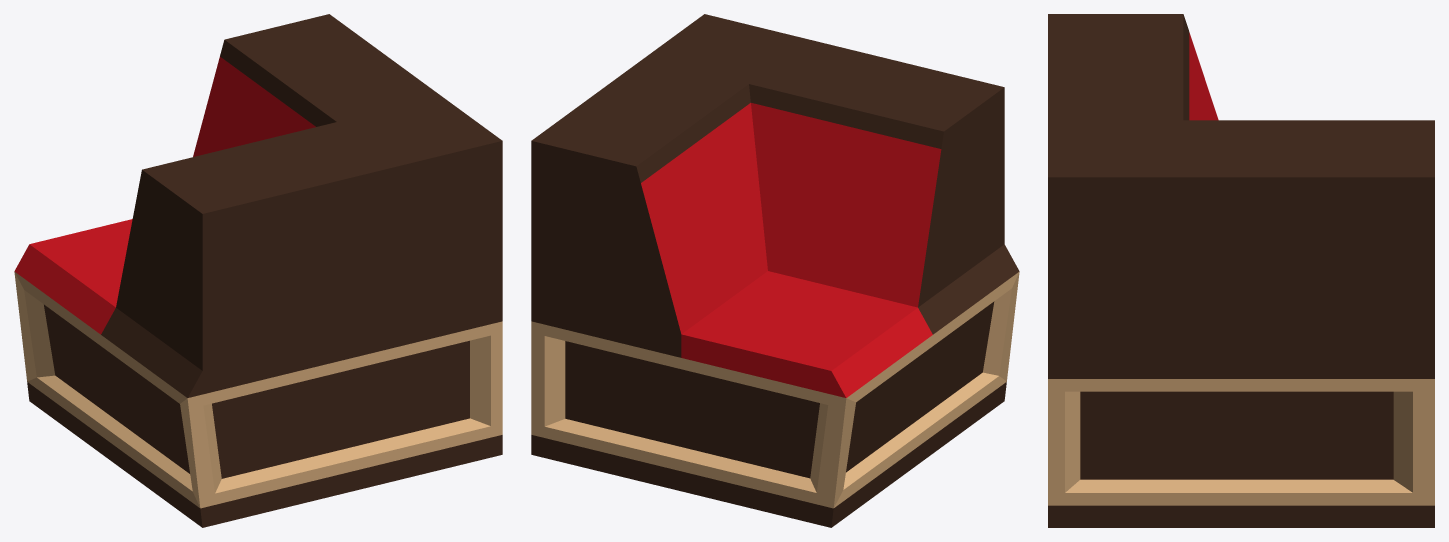
Rendered from Booth Corner.fbx.
The picture shows the model from 3 angles, left to right: view 1: azimuth 30°, elevation 25°; view 2: azimuth 150°, elevation 25°; view 3: azimuth 270°, elevation 25°; orthographic projection. The views are drawn at different scales.
Parts seen in each view (by area): view 1: Booth Corner; view 2: Booth Corner; view 3: Booth Corner.
Part boxes in pixels (x1,y1,x2,y2): Booth Corner: (14, 14, 502, 527); Booth Corner: (531, 14, 1019, 527); Booth Corner: (1048, 14, 1434, 527).
Bounding box in the file's own units: 2100 × 2000 × 2000.
